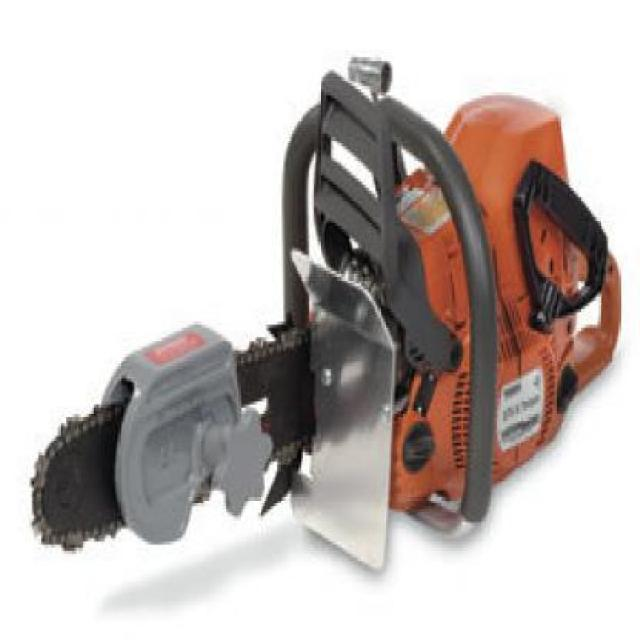Chainsaw: (28, 55, 623, 571)
